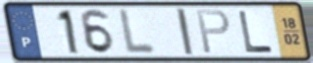1: (56, 8, 81, 56)
6: (79, 8, 116, 56)
I: (174, 7, 196, 57)
L: (117, 7, 158, 56), (236, 10, 275, 54)
P: (195, 8, 233, 56)
